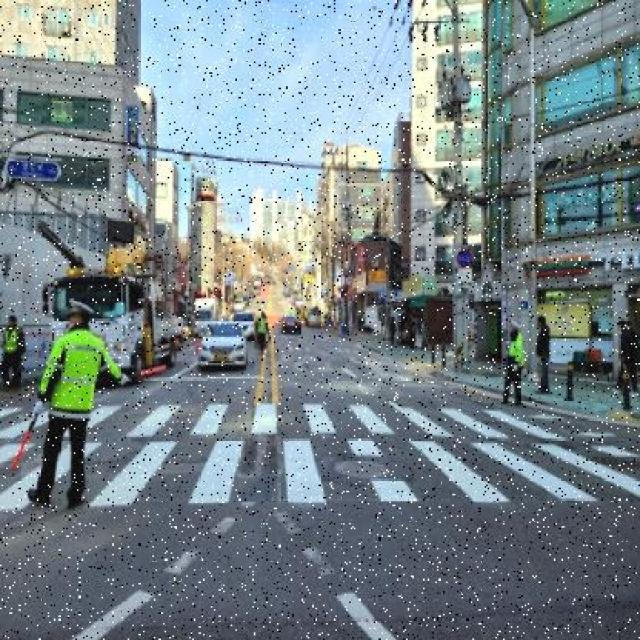crosswalk: (0, 441, 638, 510), (0, 404, 564, 437)
